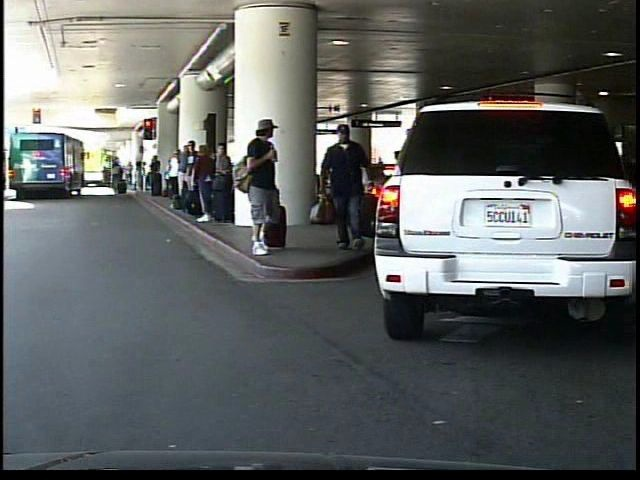person: (321, 121, 380, 254), (242, 118, 293, 256)
